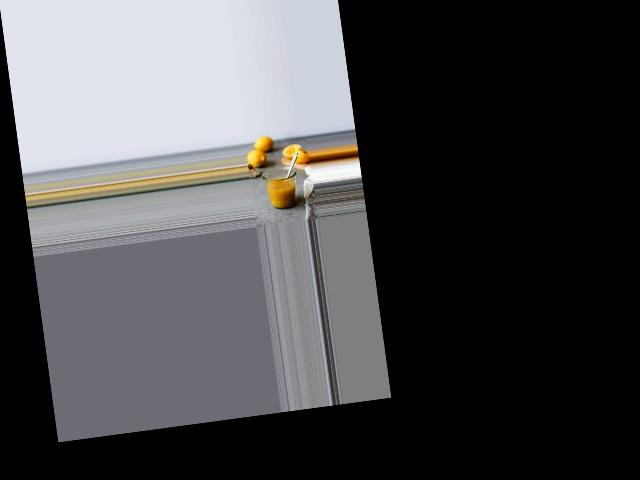lemon: (249, 133, 273, 151)
